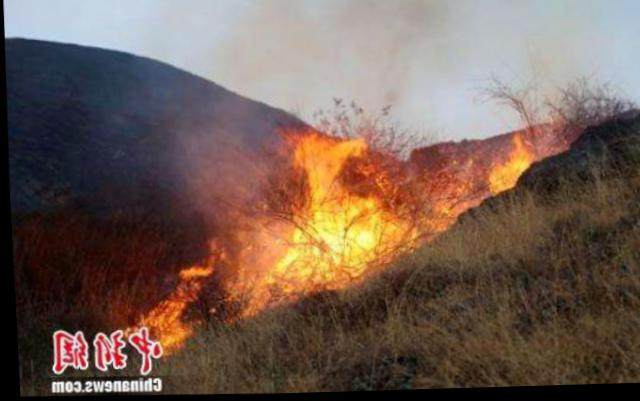fire: (115, 118, 555, 362)
